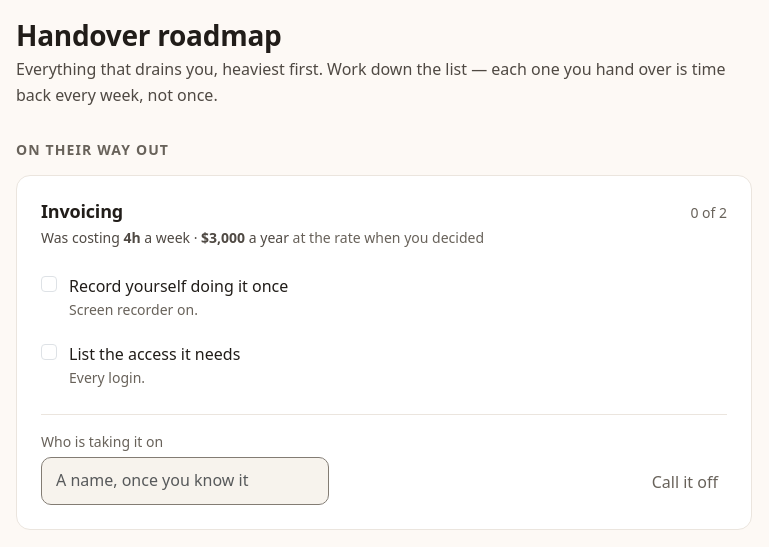
Test: working through a handover › ticks a box and saves it
Expected: the heading "Handover roadmap" is shown, x1=16 y1=16 x2=282 y2=54
Click the checkbox labelled "Record yourself doing it once Screen recorder on." at {"x": 49, "y": 284}, box x1=41 y1=276 x2=57 y2=292
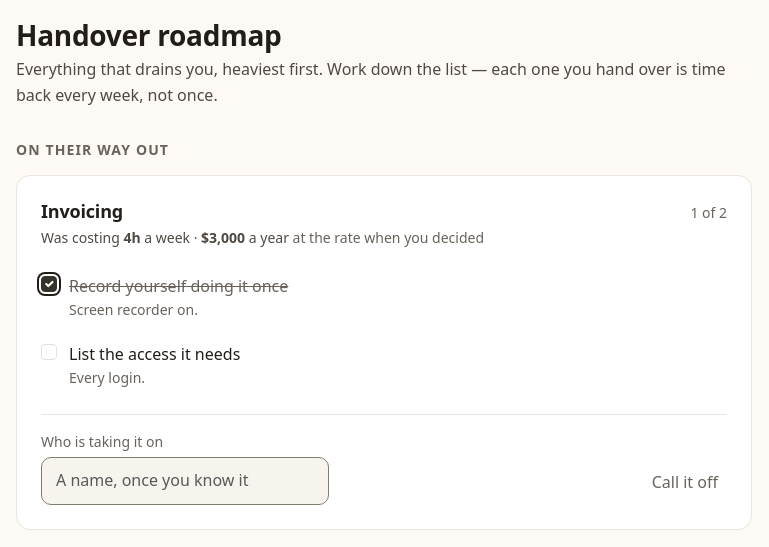
Now the text "1 of 2" is shown, box x1=690 y1=202 x2=727 y2=224
